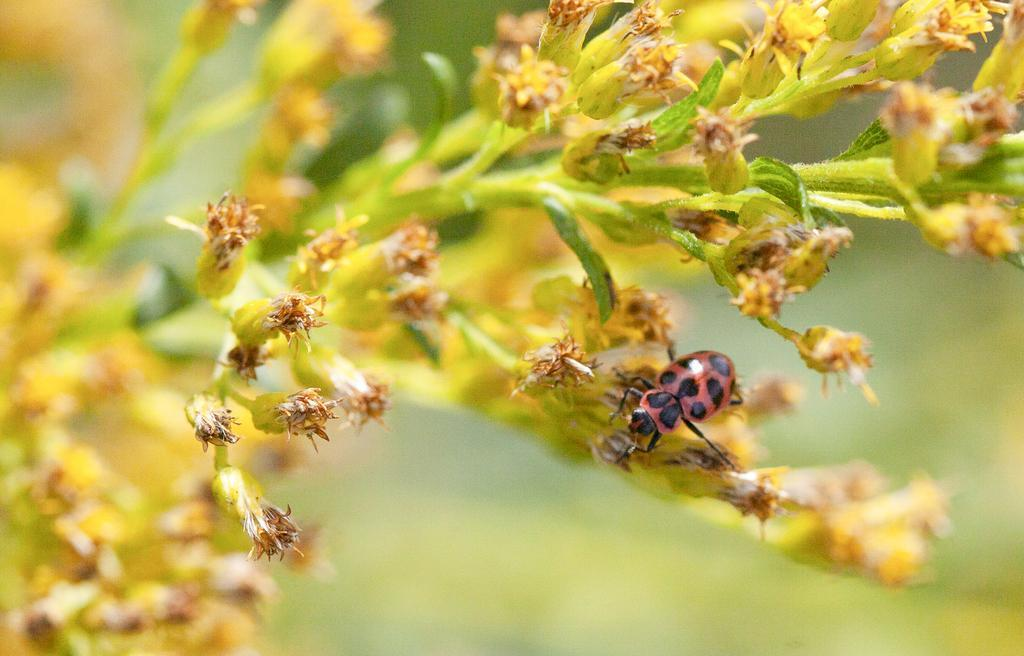ladybug: (608, 339, 748, 473)
